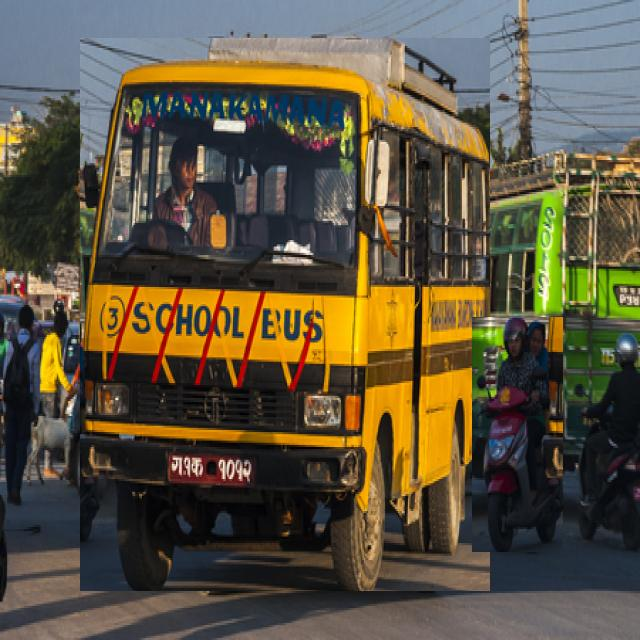bus: (80, 39, 490, 591), (475, 152, 640, 475)
motorcycle: (472, 317, 562, 552), (570, 334, 640, 550)
